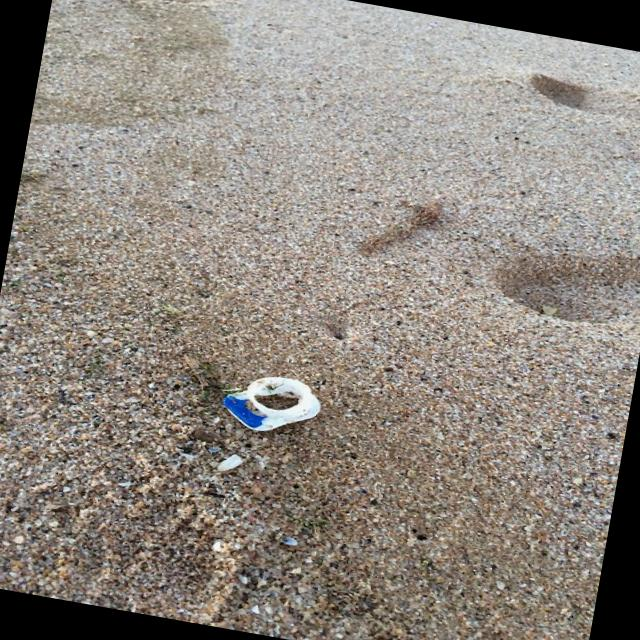Trash: (218, 360, 328, 444)
